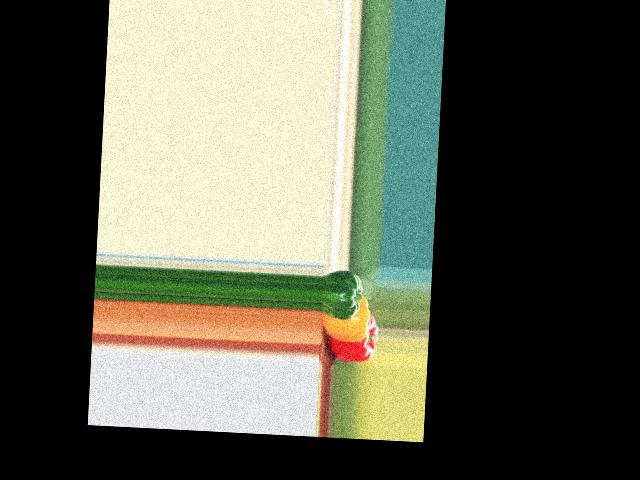bell_pepper: (321, 312, 378, 362)
